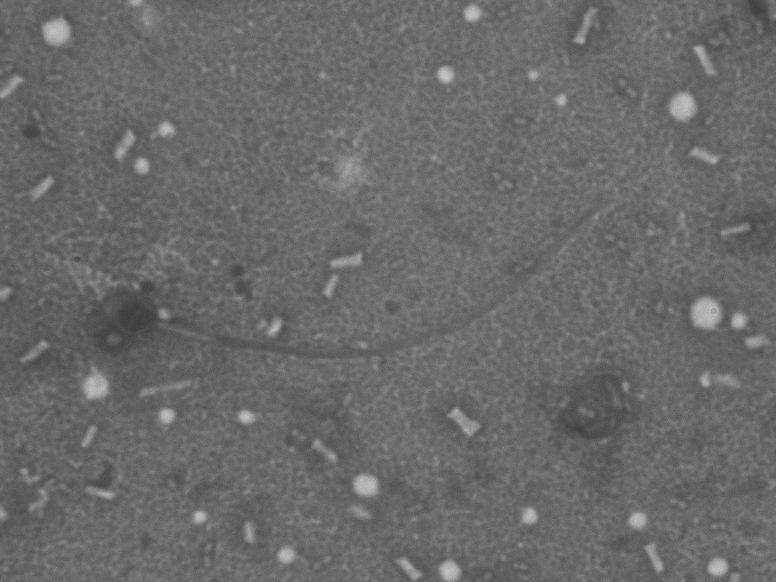Abnormal: (83, 192, 646, 424)
